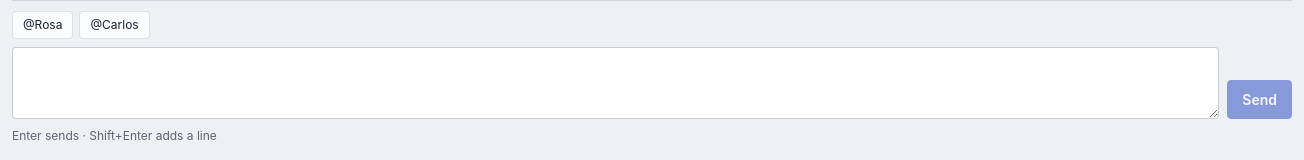
Composer › mention chips insert "@Name " at the caret
The image size is (1304, 160).
Click the button "@Rosa": x=43, y=25 [12,11,73,39]
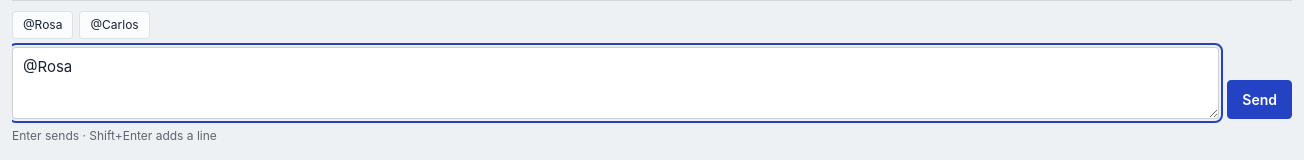
Check: the text box named "Message Rosa" holds "@Rosa "
In the text box named "Message Rosa": x=616, y=83 [12,47,1219,119], type "and"
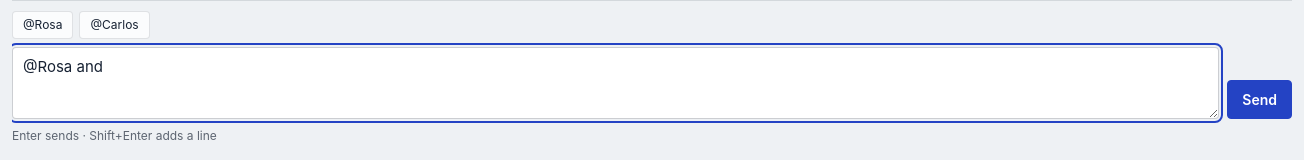
Click the button "@Carlos": x=115, y=25 [79,11,150,39]
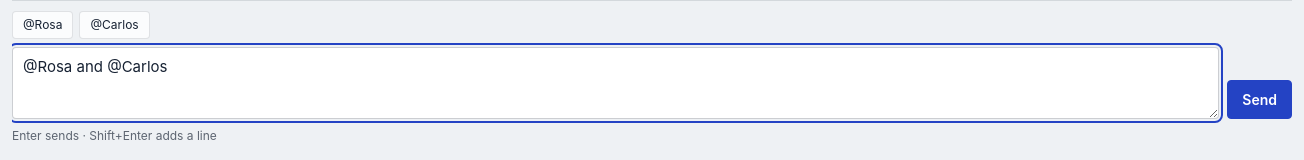
Check: the text box named "Message Rosa" holds "@Rosa and @Carlos ", box [12,47,1219,119]
